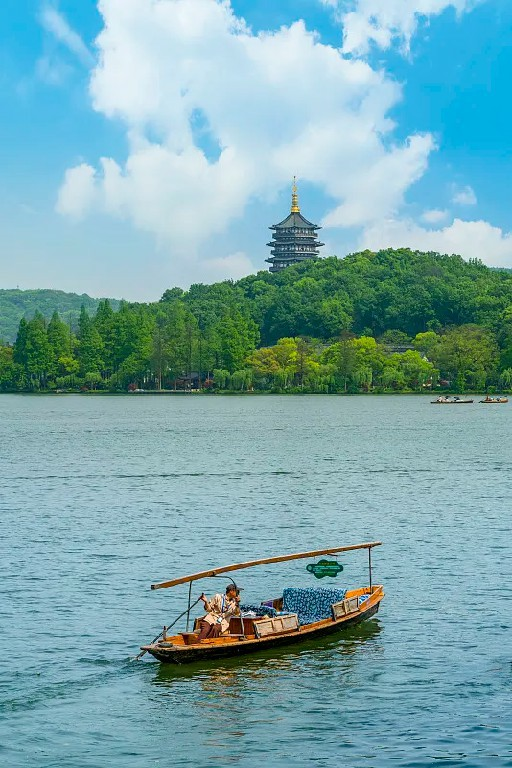Leifeng: (266, 175, 327, 272)
